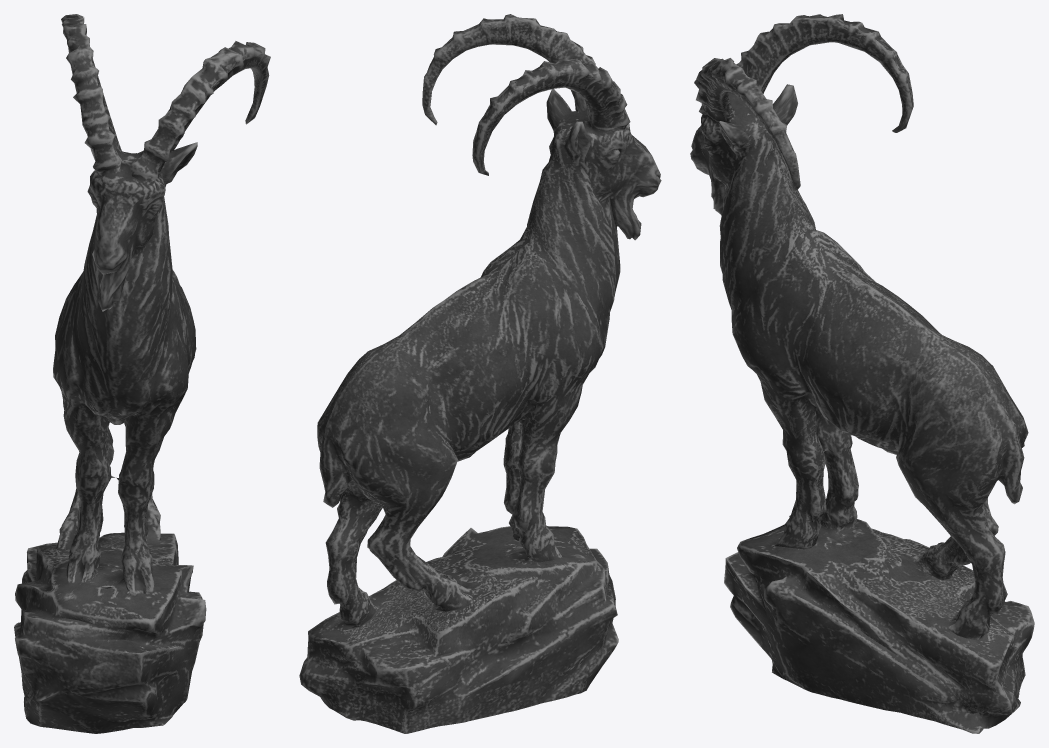
The model's file is ibex-statue-scan-berlin-tierpark.glb.
3 renders of one model, left to right at view 1: azimuth 30°, elevation 25°; view 2: azimuth 150°, elevation 25°; view 3: azimuth 270°, elevation 25°, orthographic. The views are drawn at different scales.
Visible parts, largest first — view 1: mesh2a_low; view 2: mesh2a_low; view 3: mesh2a_low.
Boxes of the visible parts, bbox=[...] form: mesh2a_low: bbox=[14, 14, 270, 733]; mesh2a_low: bbox=[299, 14, 661, 733]; mesh2a_low: bbox=[690, 14, 1034, 733].
Bounding box in the file's own units: 0.777 × 2 × 0.9807.
1 material, 1 textured.
